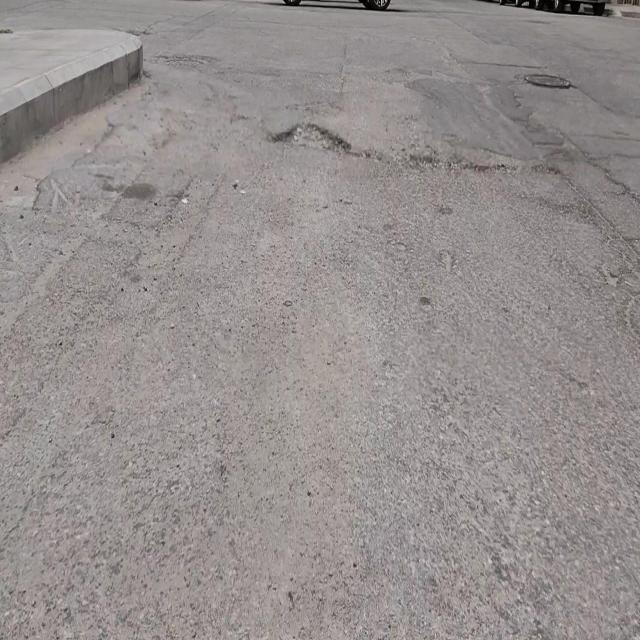Pothole: (271, 118, 353, 156)
